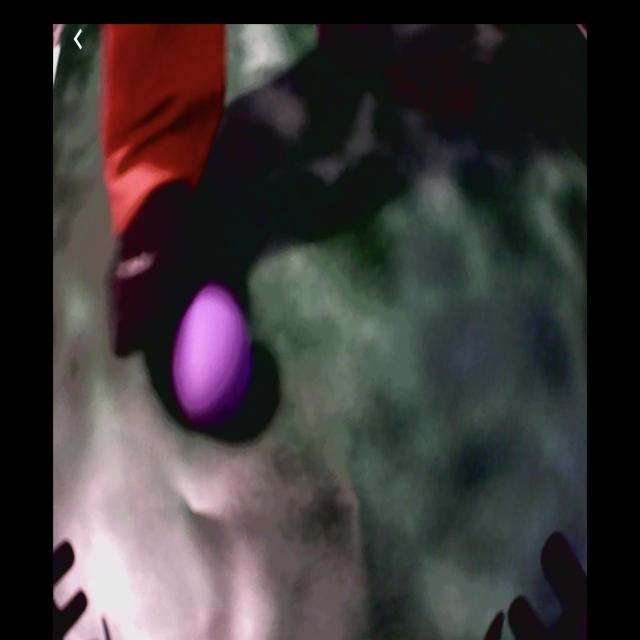ball: (168, 286, 249, 414)
